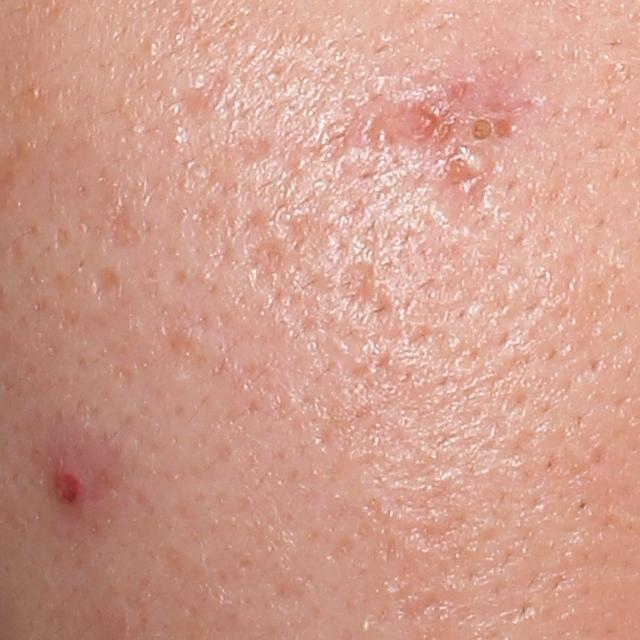atrophic_scar: (342, 264, 393, 328), (106, 189, 143, 255), (245, 237, 286, 291), (446, 160, 482, 217), (232, 134, 275, 167), (90, 263, 122, 301)
comedo: (464, 110, 499, 144)
papule: (51, 459, 92, 514)
